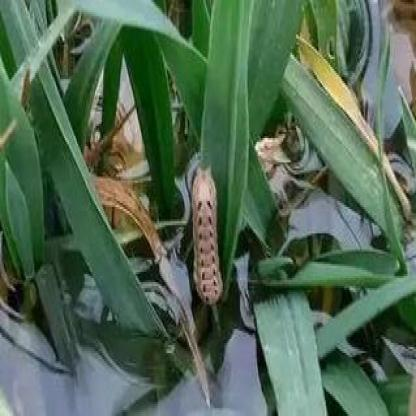armyworm: (184, 157, 230, 317)
